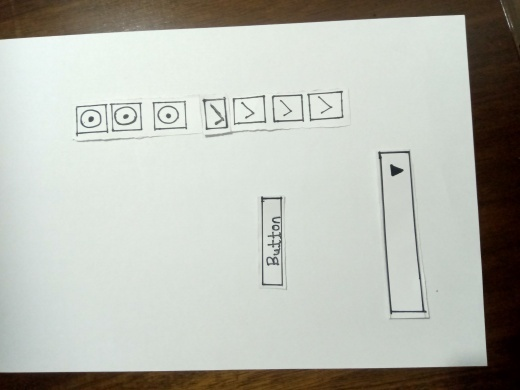button: (260, 196, 286, 285)
checkbox: (309, 92, 346, 120), (233, 95, 264, 123), (271, 96, 305, 121), (202, 101, 228, 127)
dropdown: (379, 149, 427, 319)
radio: (75, 107, 107, 133), (153, 102, 185, 128), (109, 104, 141, 130)
